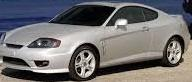Cars: (5, 3, 191, 81)
